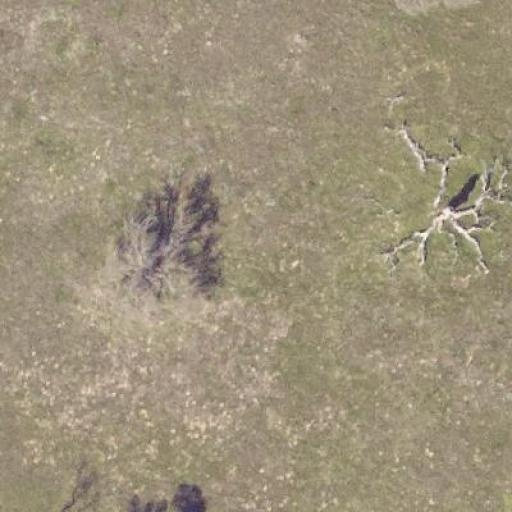tree-top: (92, 206, 208, 312)
